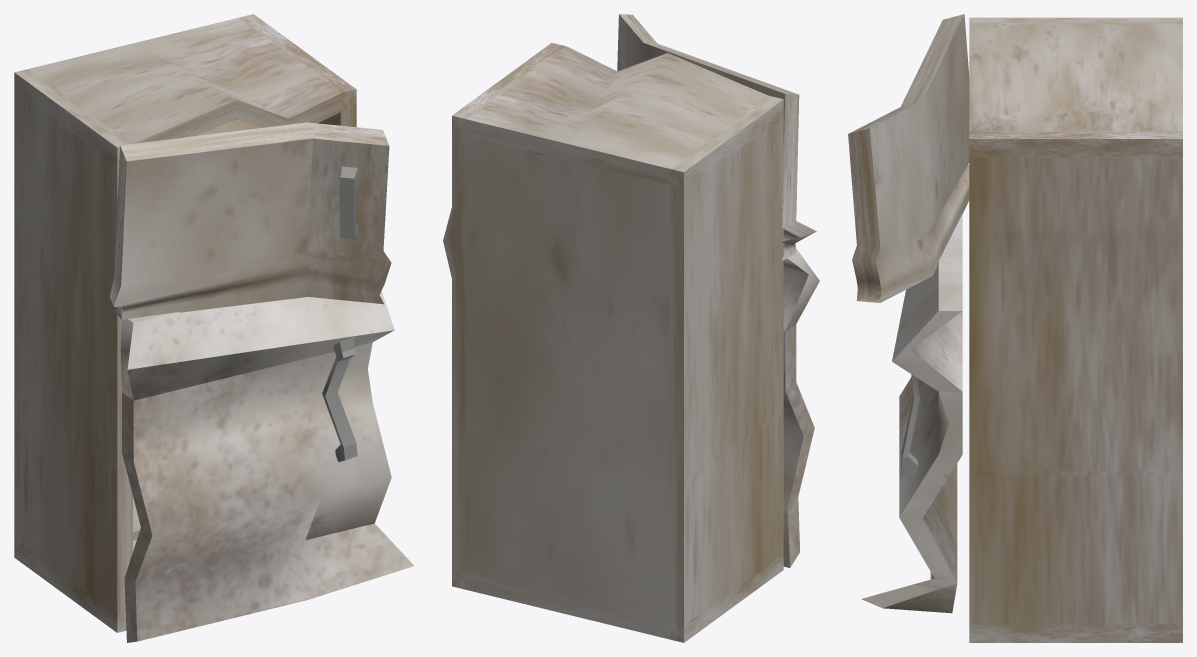
The model's file is Fridge_Broken.fbx.
3 renders of one model, left to right at view 1: azimuth 30°, elevation 25°; view 2: azimuth 150°, elevation 25°; view 3: azimuth 270°, elevation 25°, orthographic. The views are drawn at different scales.
Visible parts, largest first — view 1: polySurface15; view 2: polySurface15; view 3: polySurface15.
Part boxes in pixels (box(x1,y1,x2,y2)): polySurface15: box(14, 14, 413, 642); polySurface15: box(443, 14, 819, 642); polySurface15: box(848, 14, 1182, 642).
Bounding box in the file's own units: 102 × 185 × 106.
